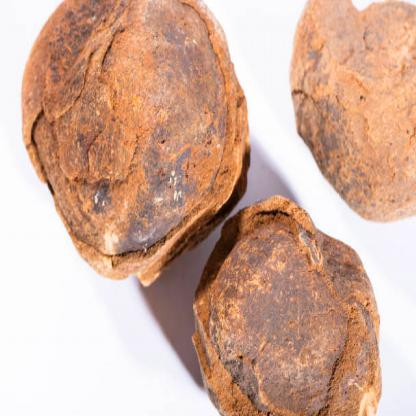Sedimentary_Limestone: (12, 7, 265, 289), (194, 186, 408, 415), (285, 7, 415, 231)
